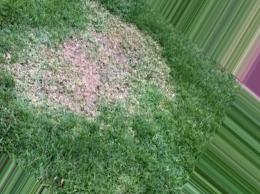patch: (26, 38, 156, 108), (91, 18, 128, 39)
